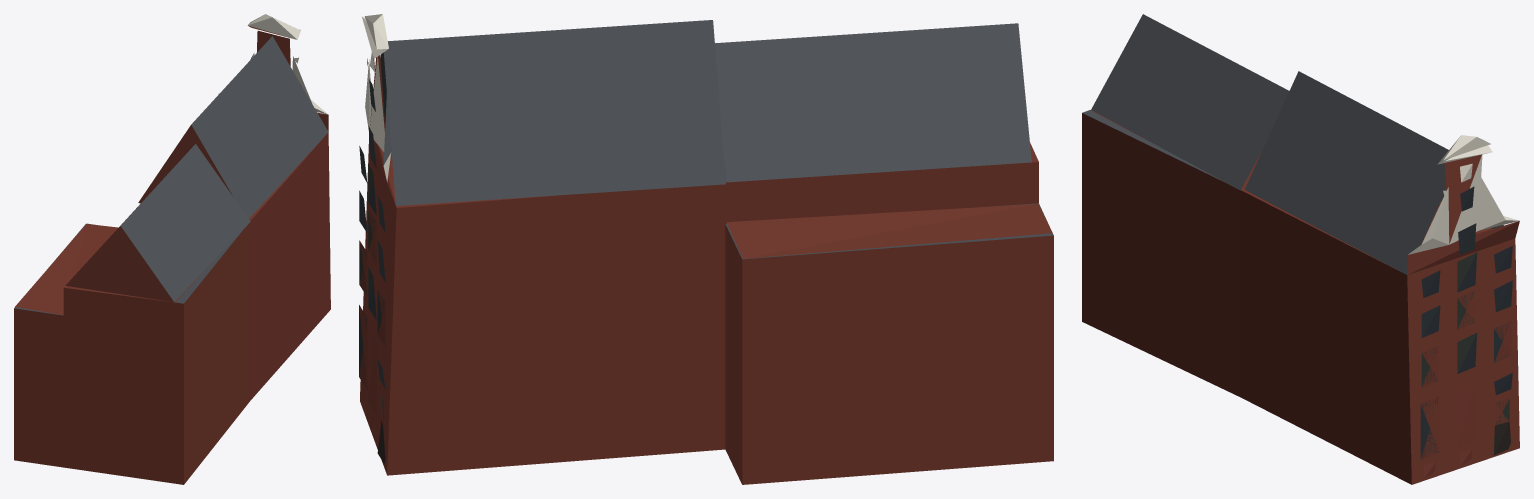
Rendered from odeon-singel.lod2.glb.
3 views of the same model, side by side, from view 1: azimuth 30°, elevation 25°; view 2: azimuth 150°, elevation 25°; view 3: azimuth 270°, elevation 25° (orthographic). The views are drawn at different scales.
Parts seen in each view (by area): view 1: lod2; view 2: lod2; view 3: lod2.
Boxes of the visible parts, x1=… form: lod2: x1=14, y1=14, x2=330, y2=484; lod2: x1=359, y1=14, x2=1053, y2=484; lod2: x1=1082, y1=14, x2=1519, y2=484.
Bounding box in the file's own units: 35.37 × 24.6 × 29.67.
